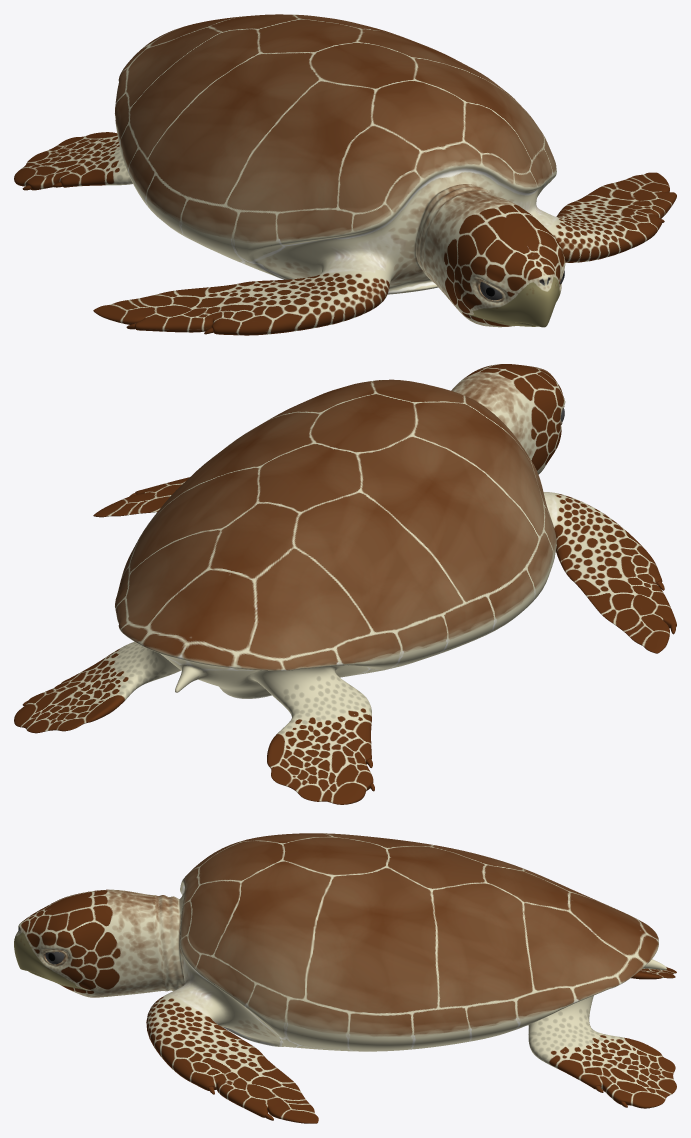
3 renders of one model, top to bottom at view 1: azimuth 30°, elevation 25°; view 2: azimuth 150°, elevation 25°; view 3: azimuth 270°, elevation 25°, orthographic. The views are drawn at different scales.
Visible parts, largest first — view 1: GeodeCaretta-caretta; view 2: GeodeCaretta-caretta; view 3: GeodeCaretta-caretta.
Boxes of the visible parts, x1,y1,x2,y2 form: GeodeCaretta-caretta: (14,14,676,335); GeodeCaretta-caretta: (14,364,676,804); GeodeCaretta-caretta: (14,833,676,1123).
Bounding box in the file's own units: 1.26 × 0.4483 × 1.46.
1 material, 1 textured.
